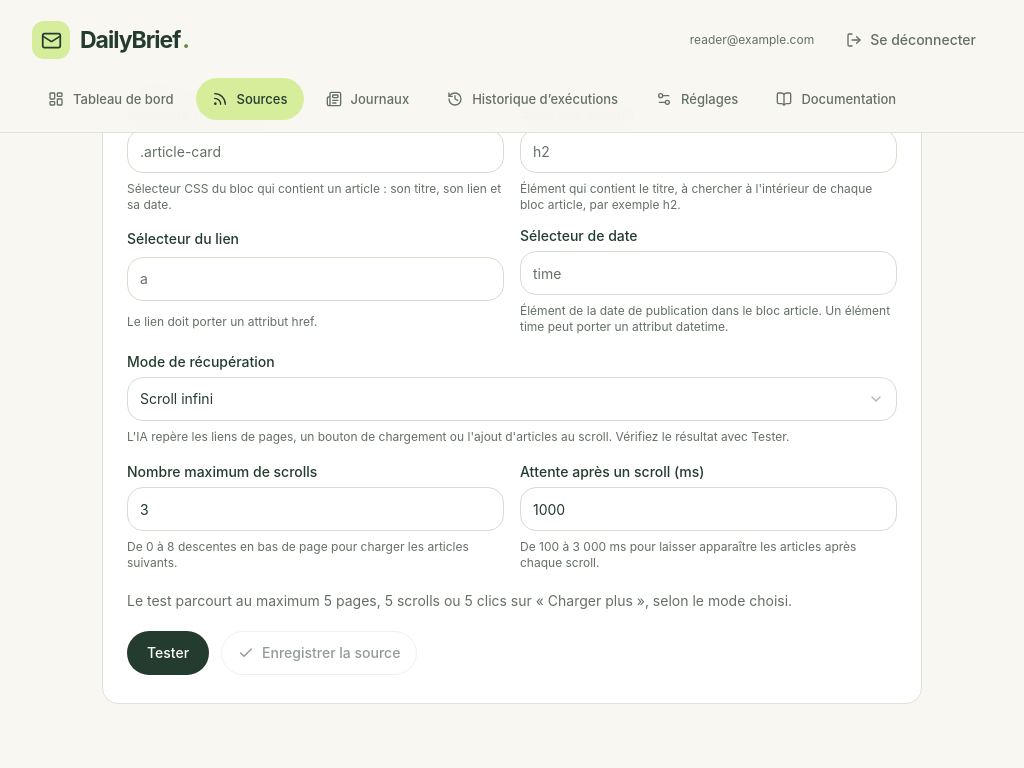
Test: shows only the controls for the selected mode and supports both pagination strategies
(page scrolled)
Expected: the number field labelled "Nombre maximum de scrolls" is shown, [127, 487, 504, 531]
Step 1. Click the dropdown named "Mode de récupération" → (177, 399), box [127, 377, 897, 421]
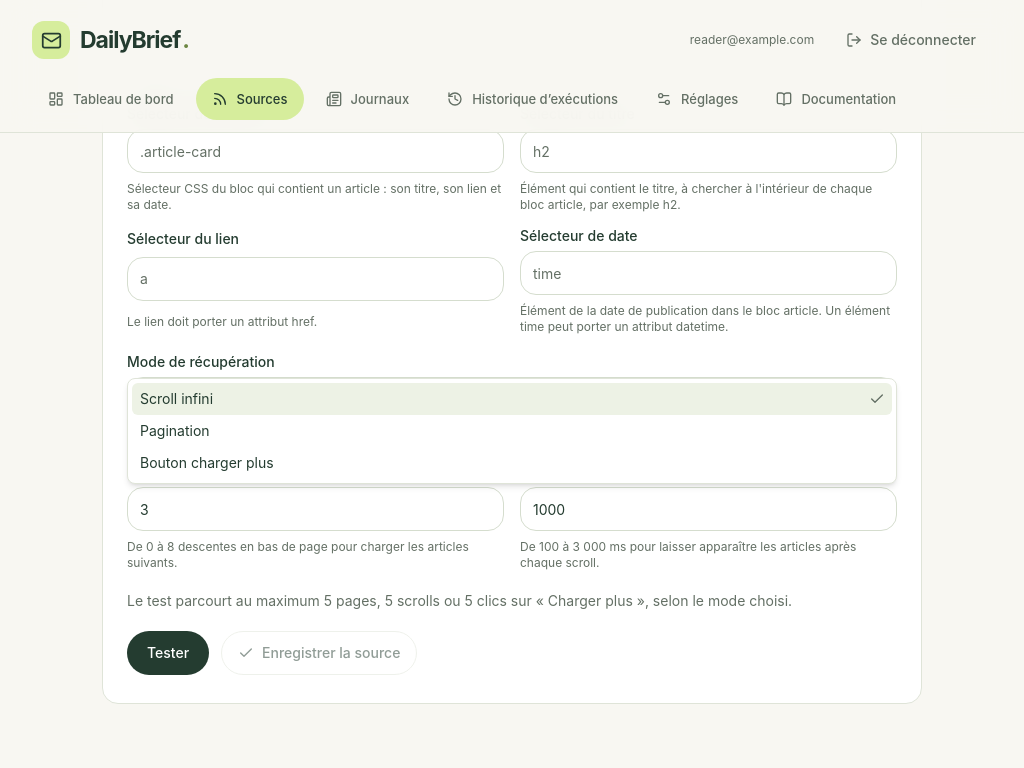
Step 2. Click the option "Pagination" → (175, 431), box [140, 422, 210, 439]
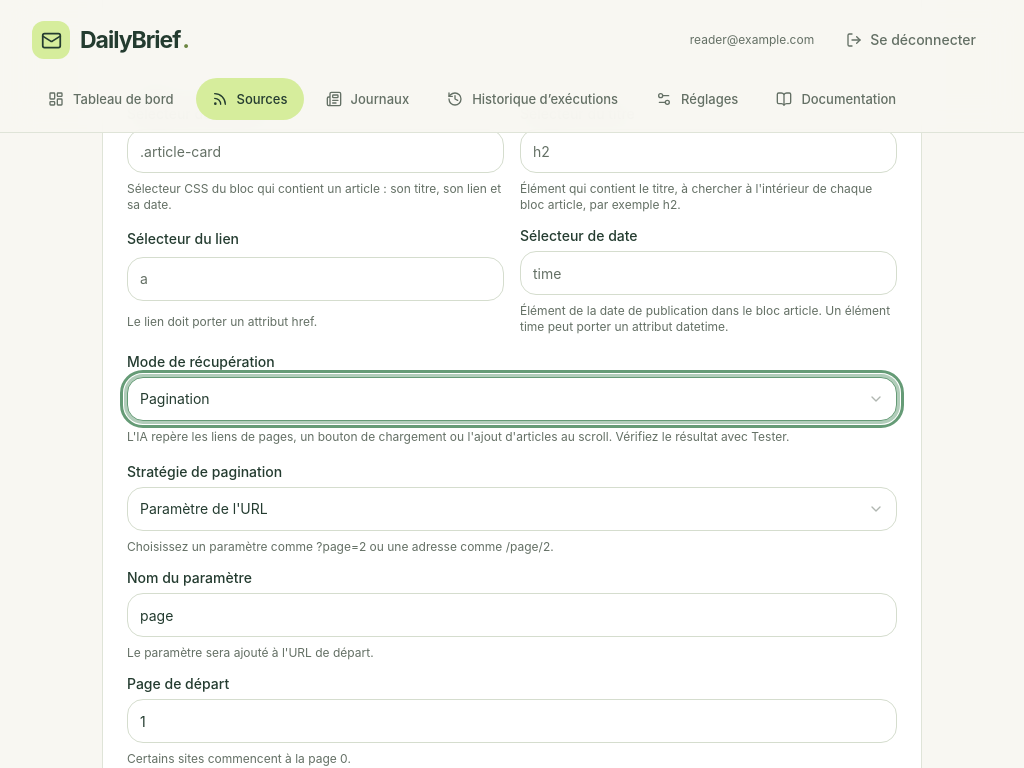
Now the label labelled "Nombre maximum de scrolls" is gone
Now the field labelled "Nom du paramètre" is shown, box [127, 593, 897, 637]
Step 3. Click the dropdown named "Stratégie de pagination" → (204, 509), box [127, 487, 897, 531]
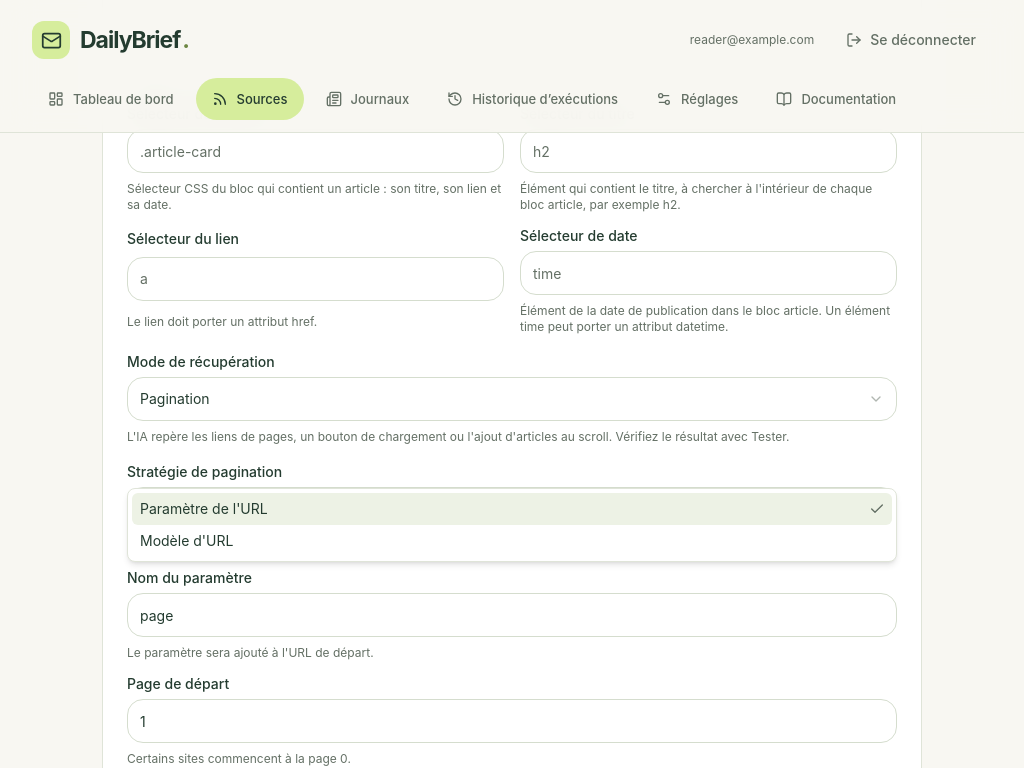
Step 4. Click the option "Modèle d'URL" → (187, 541), box [140, 532, 233, 549]
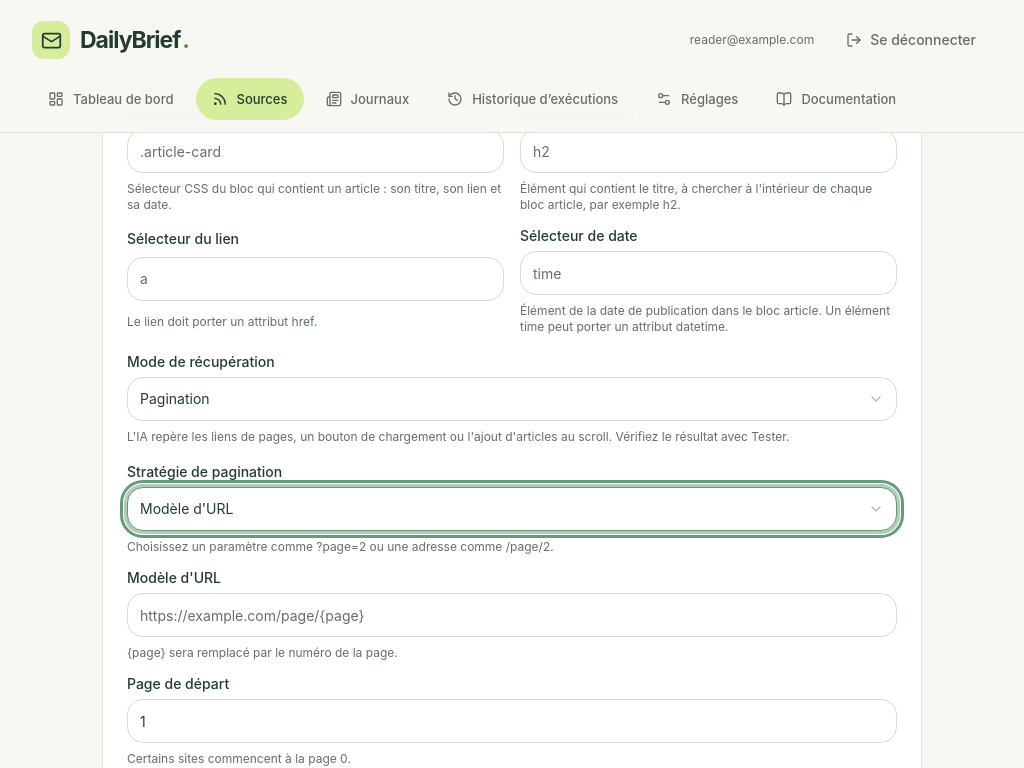
Now the field labelled "Modèle d'URL" is shown, box [127, 593, 897, 637]
Now the label labelled "Nom du paramètre" is gone
